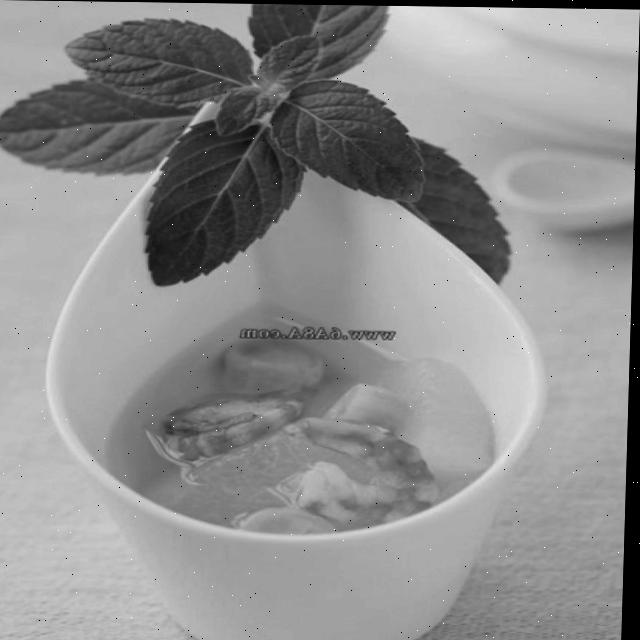汤锅炖物: (16, 82, 576, 598)
